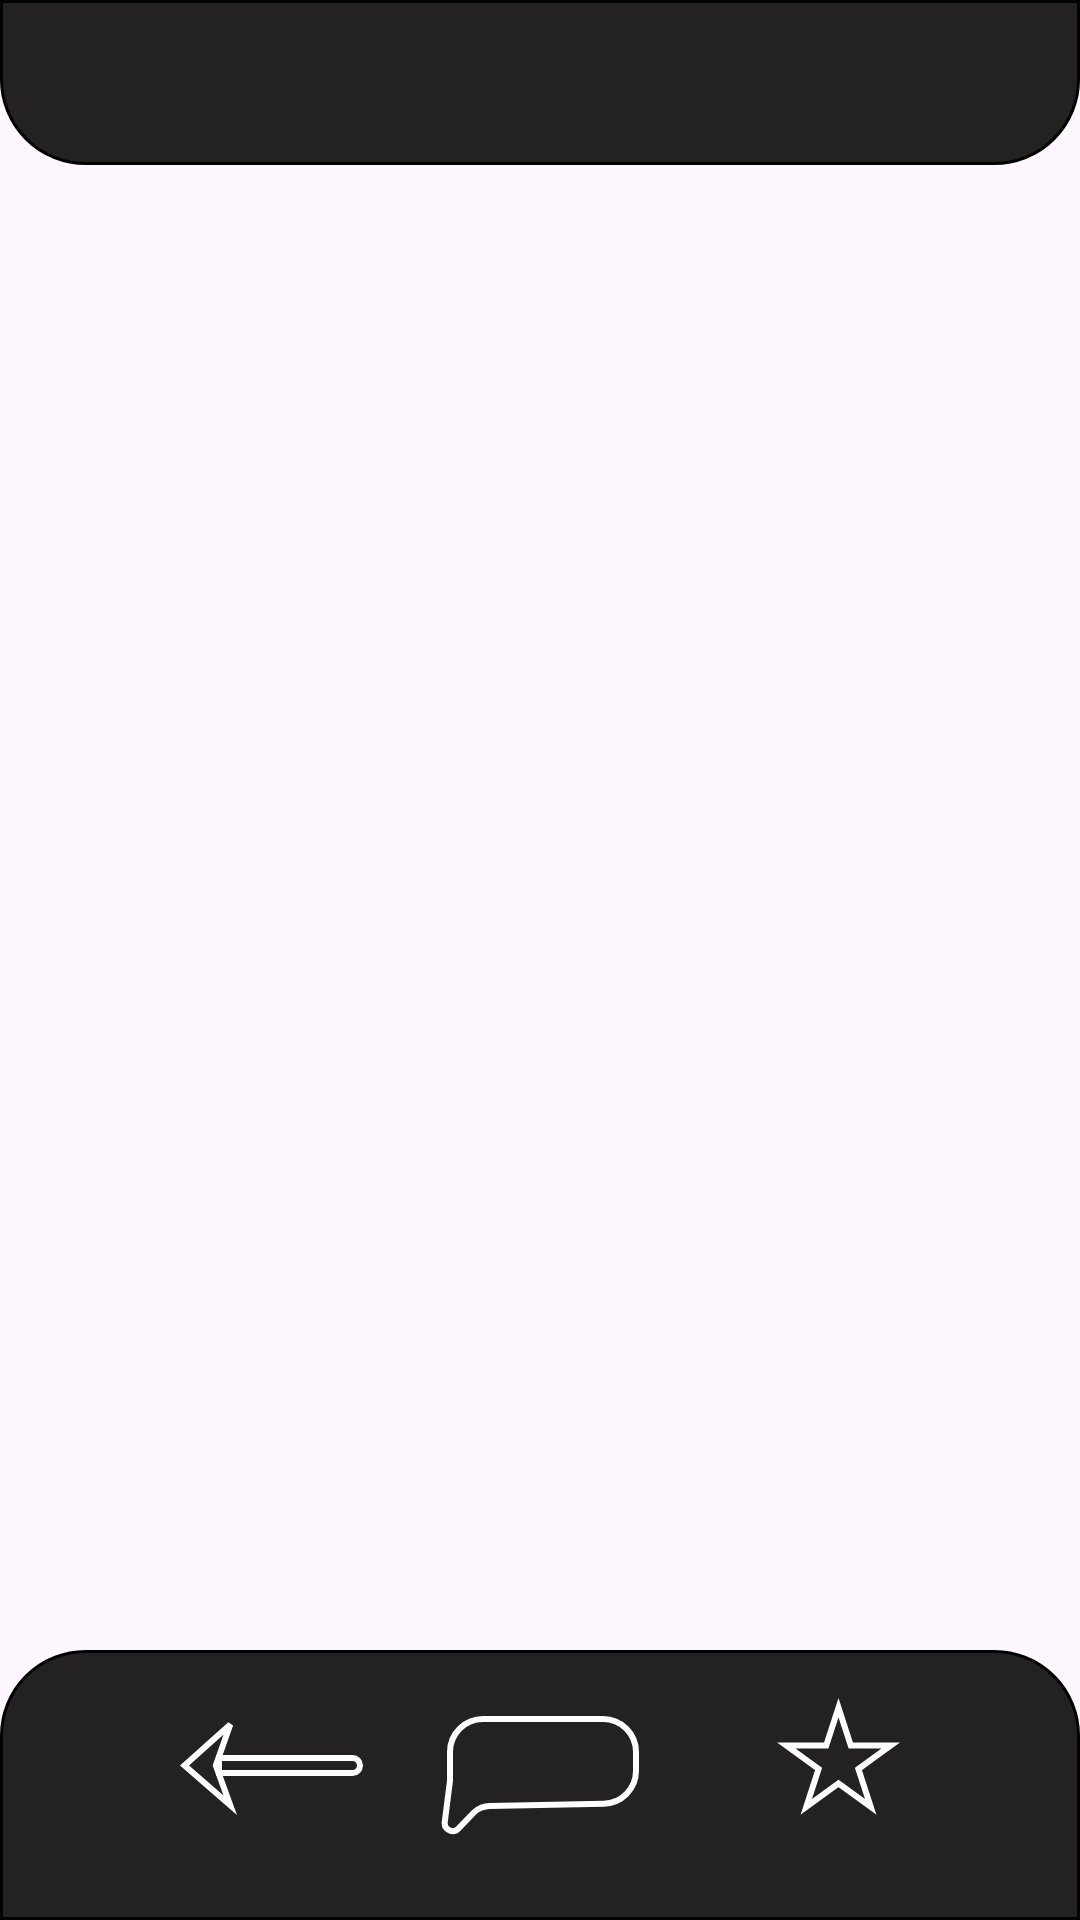

Screen size 1080 x 1920. Icon name, then its box in pixels as [x1, y1, x2, y2]:
star: [777, 1698, 900, 1815]
strelka: [180, 1722, 363, 1815]
